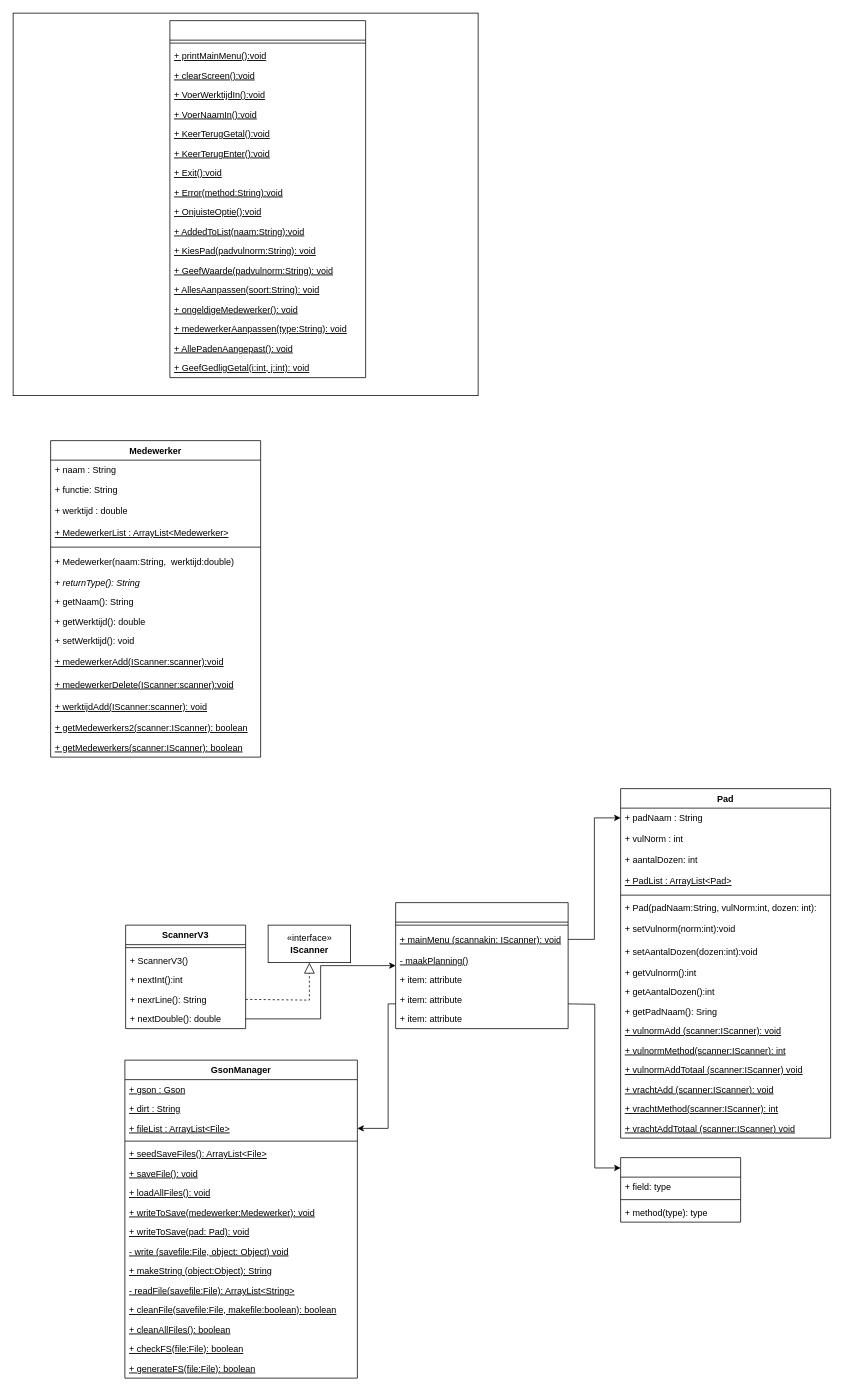
The diagram is 844 pixels wide and 1394 high, and some of its shapes have lost their labels. The box of each missing label's shape, as (x1, y1, x2, y2) in pixels:
ExcelManager: (620, 1157, 741, 1222)
UI: (169, 20, 366, 378)
Vulplanning: (395, 902, 568, 1029)
